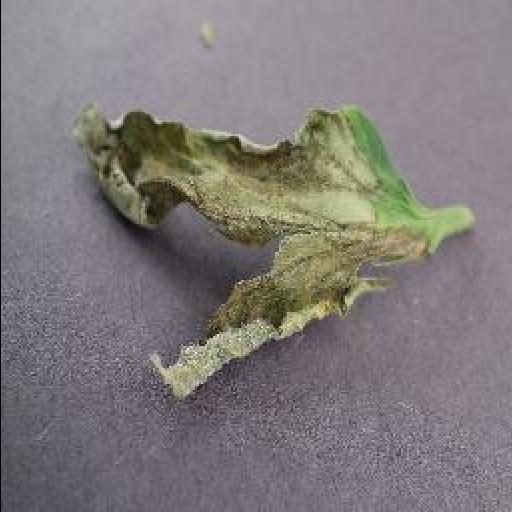disease_tomato: (68, 104, 420, 402)
